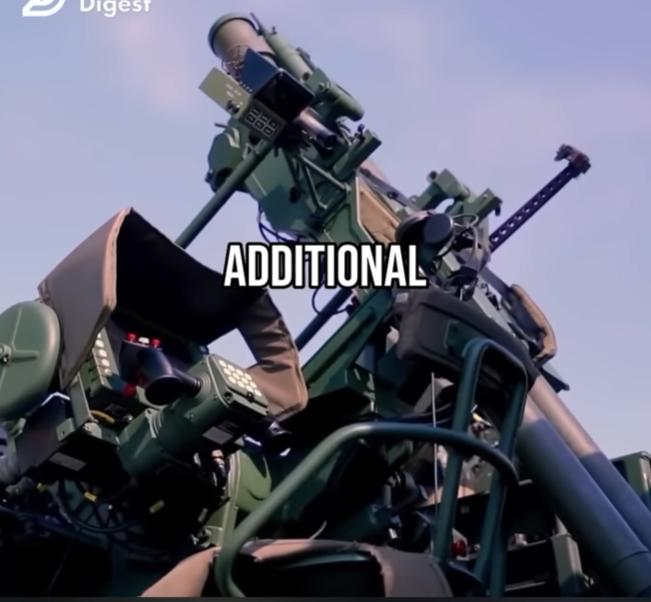MIL_SPG: (0, 14, 651, 598)
